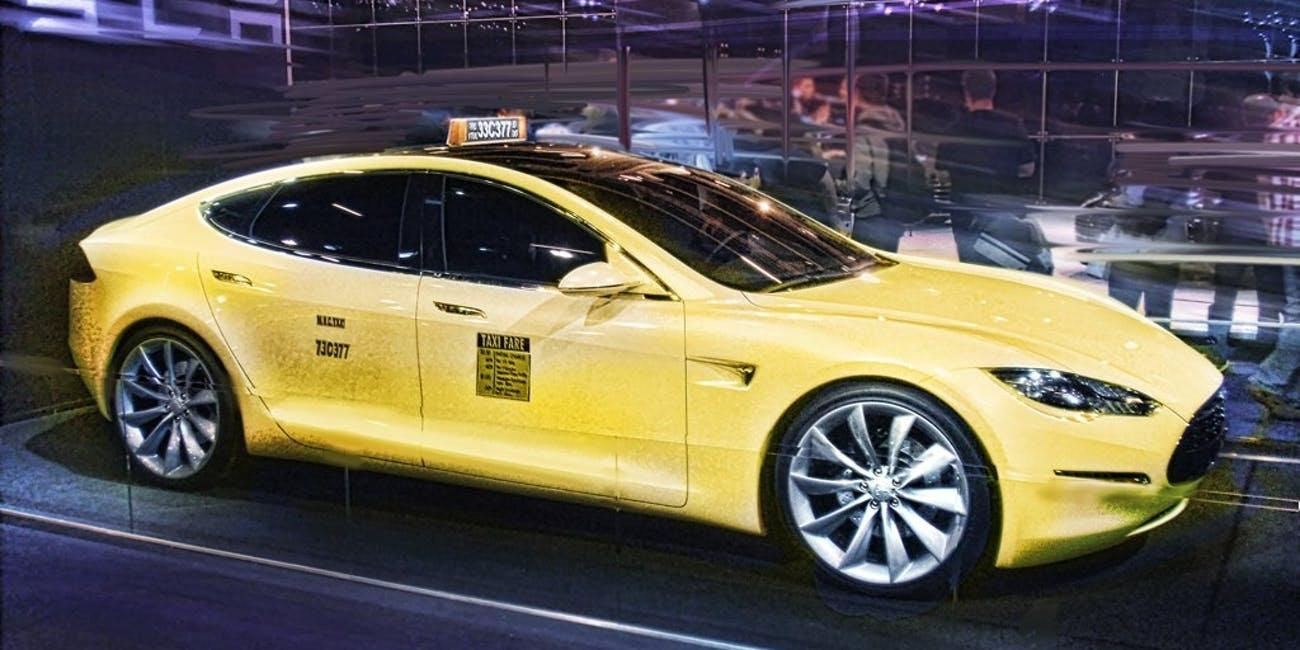taxi: (35, 108, 1267, 650)
